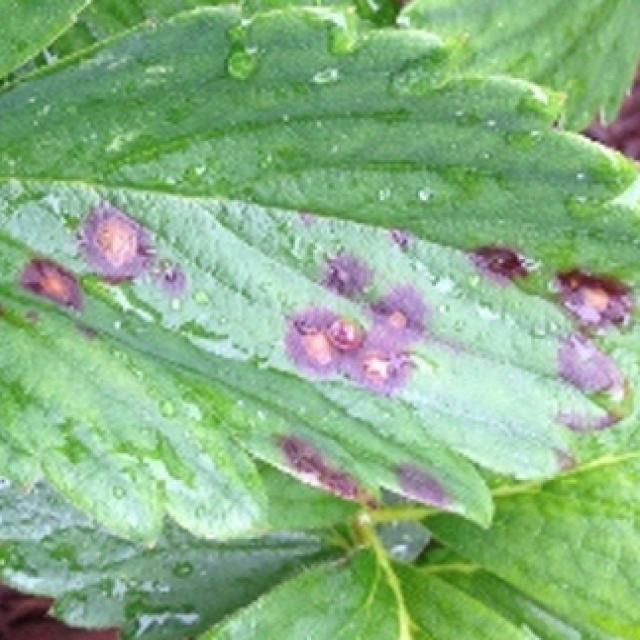Leaf Spot: (0, 2, 640, 553)
